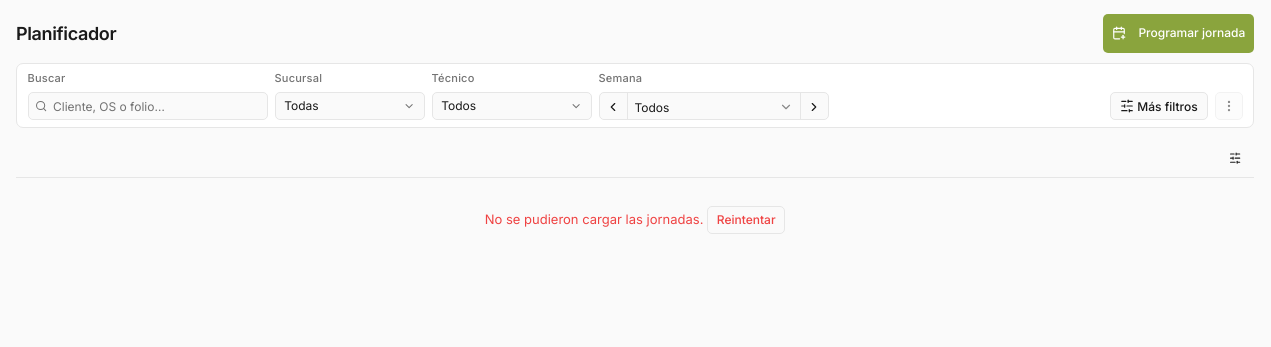
Test: compact operational services lists › phone does not hide a failed load behind an empty agenda
Expected: the message "No se pudieron cargar las jornadas. Reintentar" is shown, [485,211,785,227]
Click the button "Reintentar" at {"x": 746, "y": 220}, box [707,206,785,234]
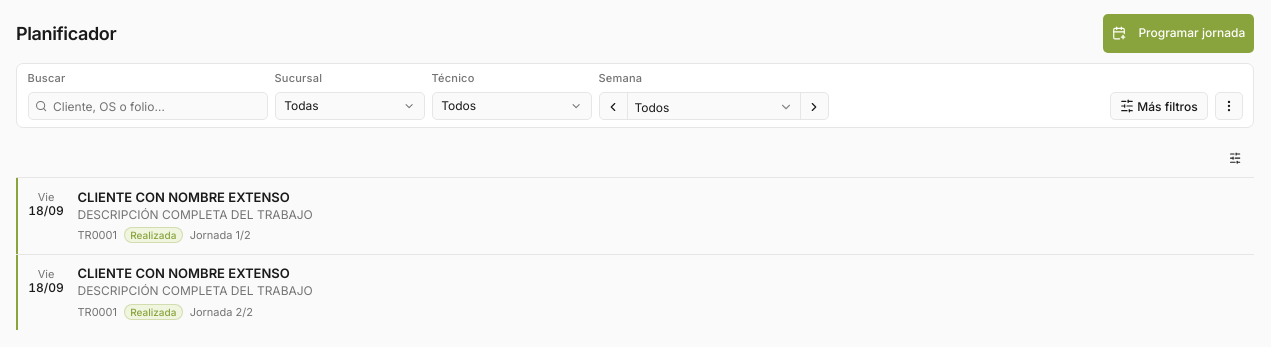
Result: the list named "Jornadas del Planificador" is shown at [16,178,1254,330]
